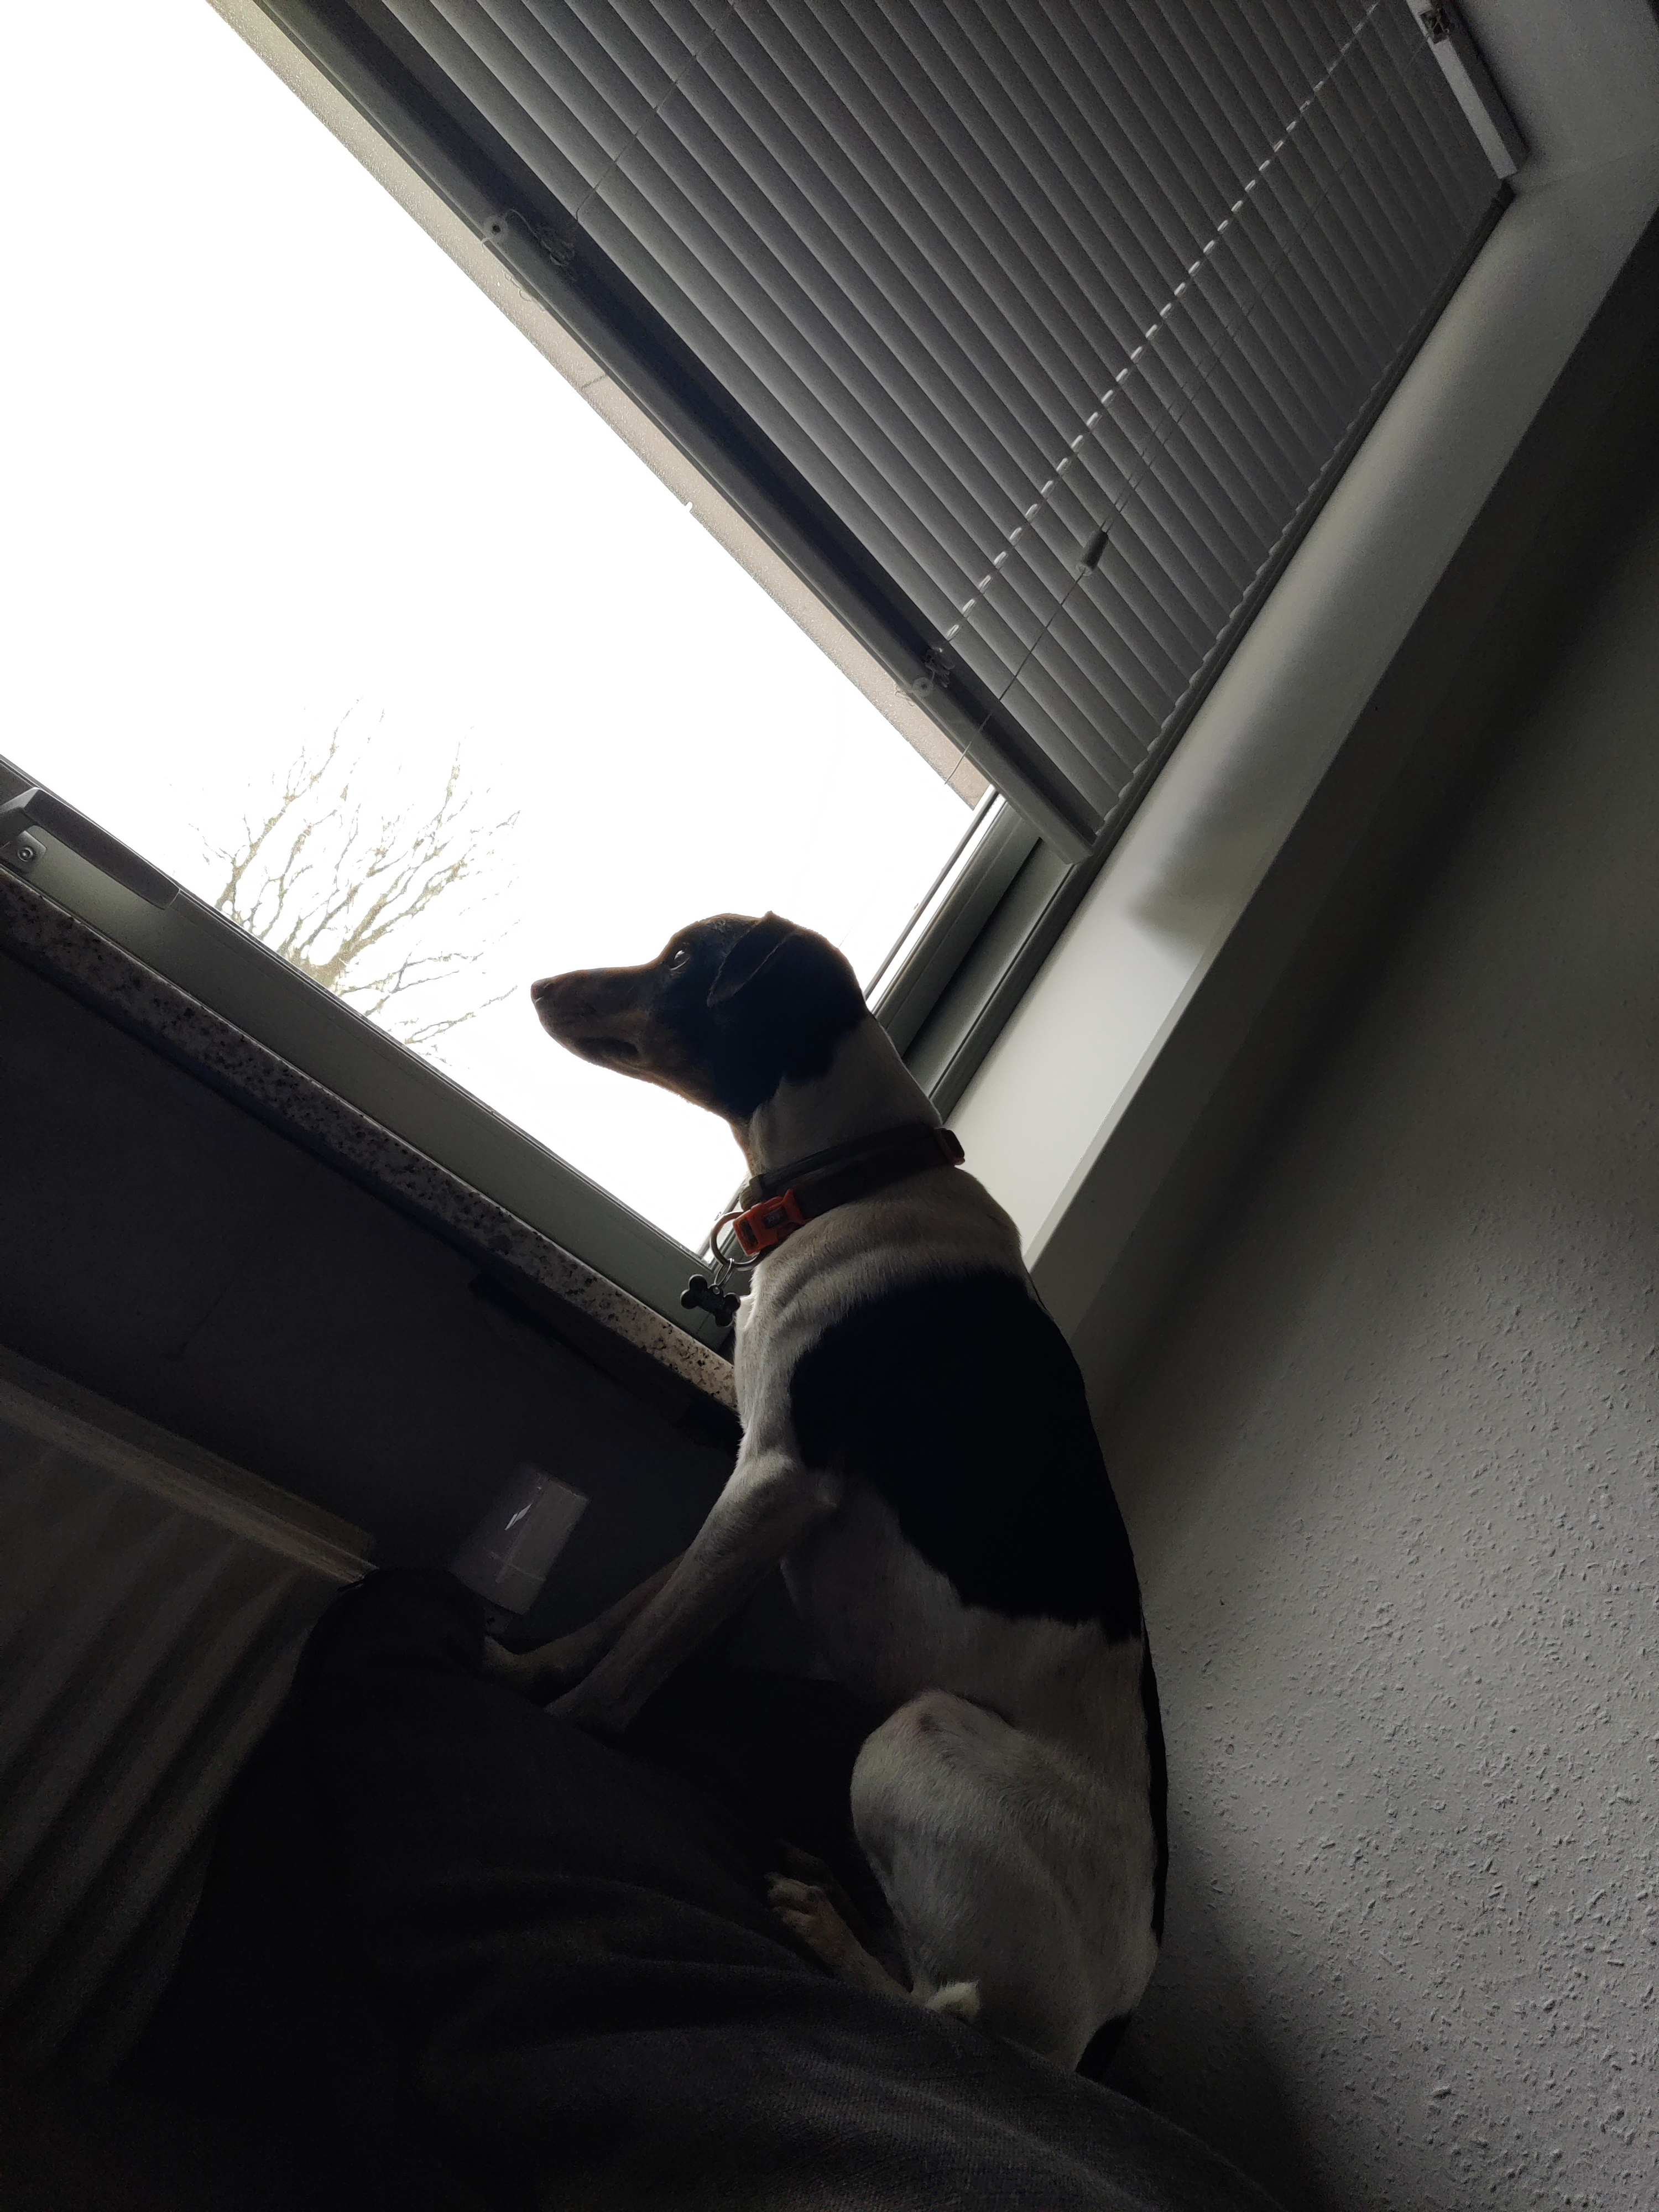Dog: (469, 880, 1192, 2088)
